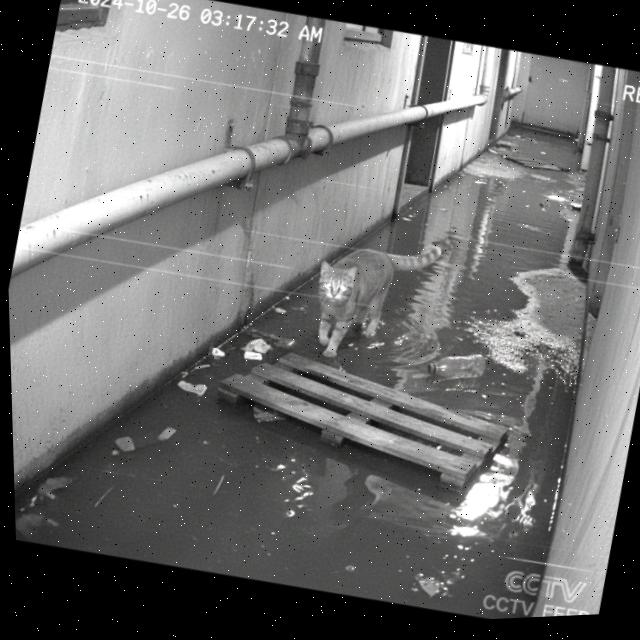cat: (296, 214, 454, 383)
